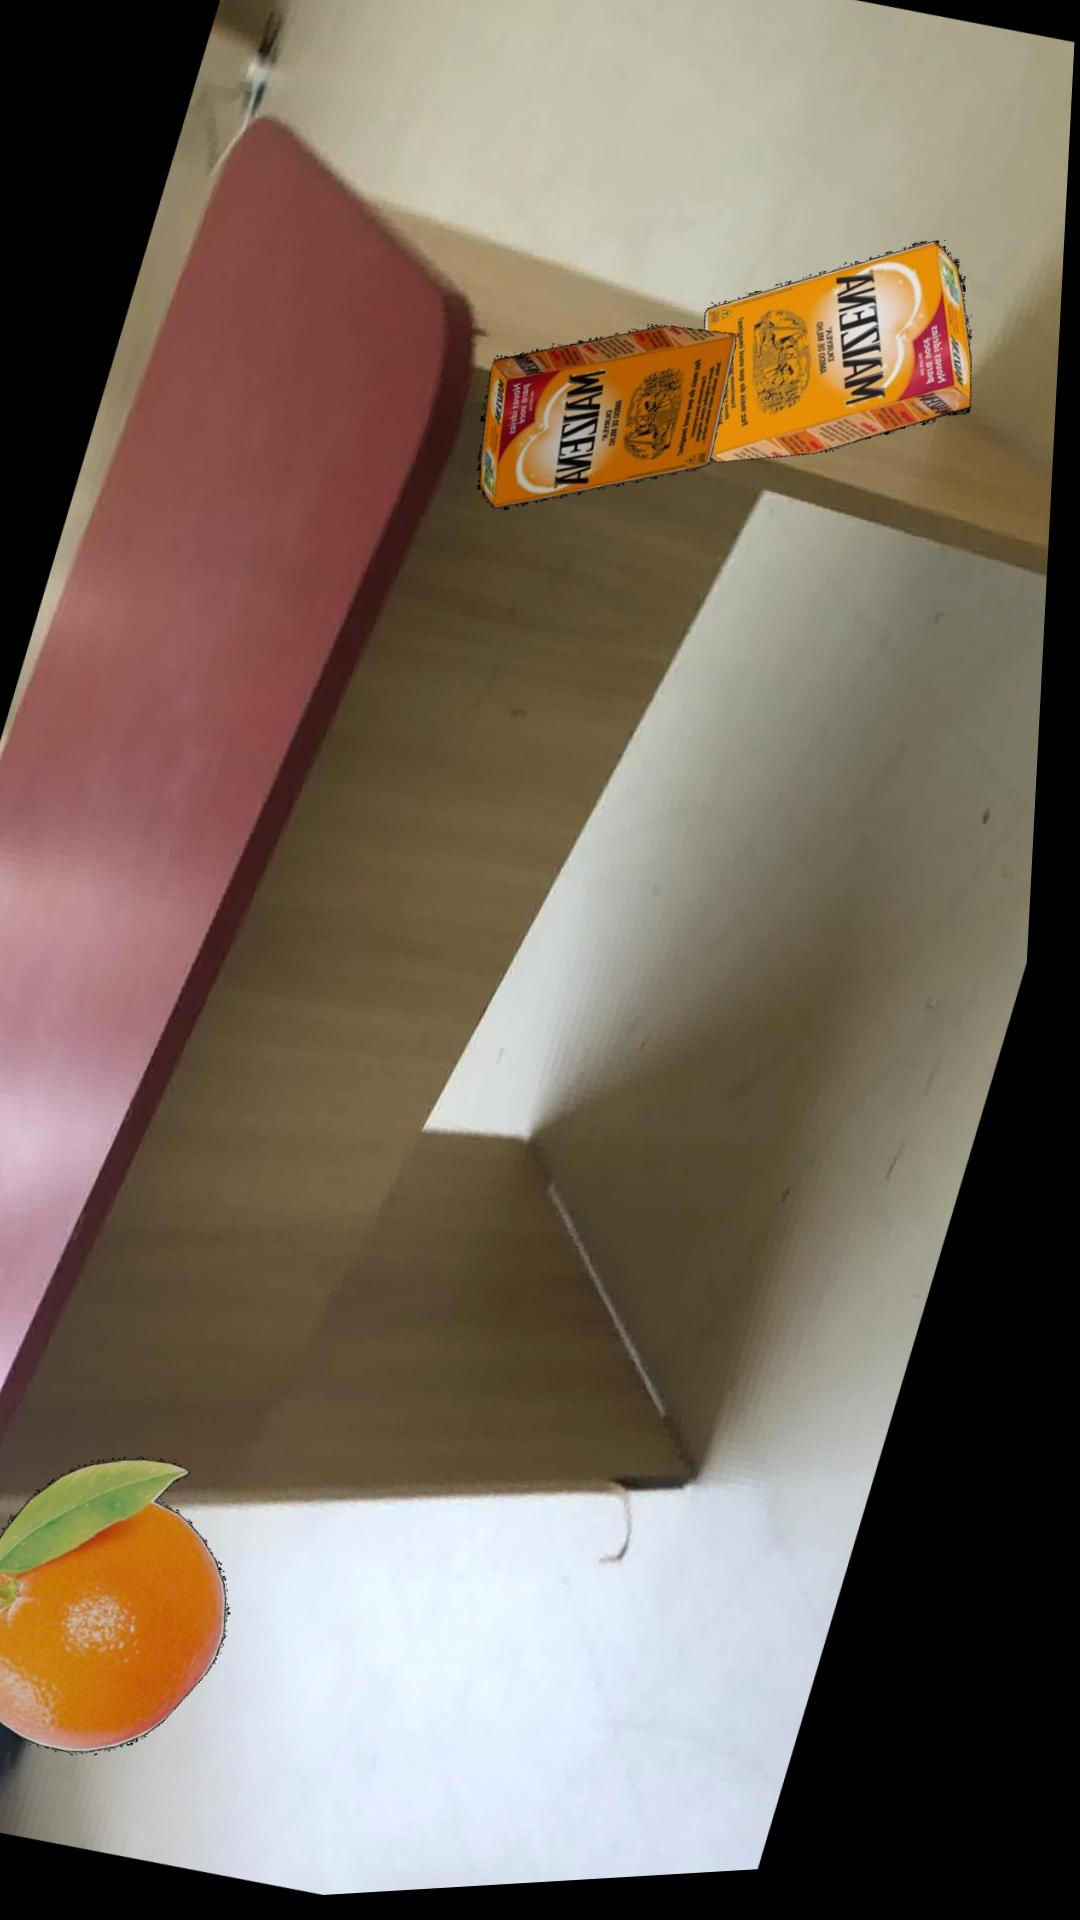orange: (0, 1461, 248, 1755)
